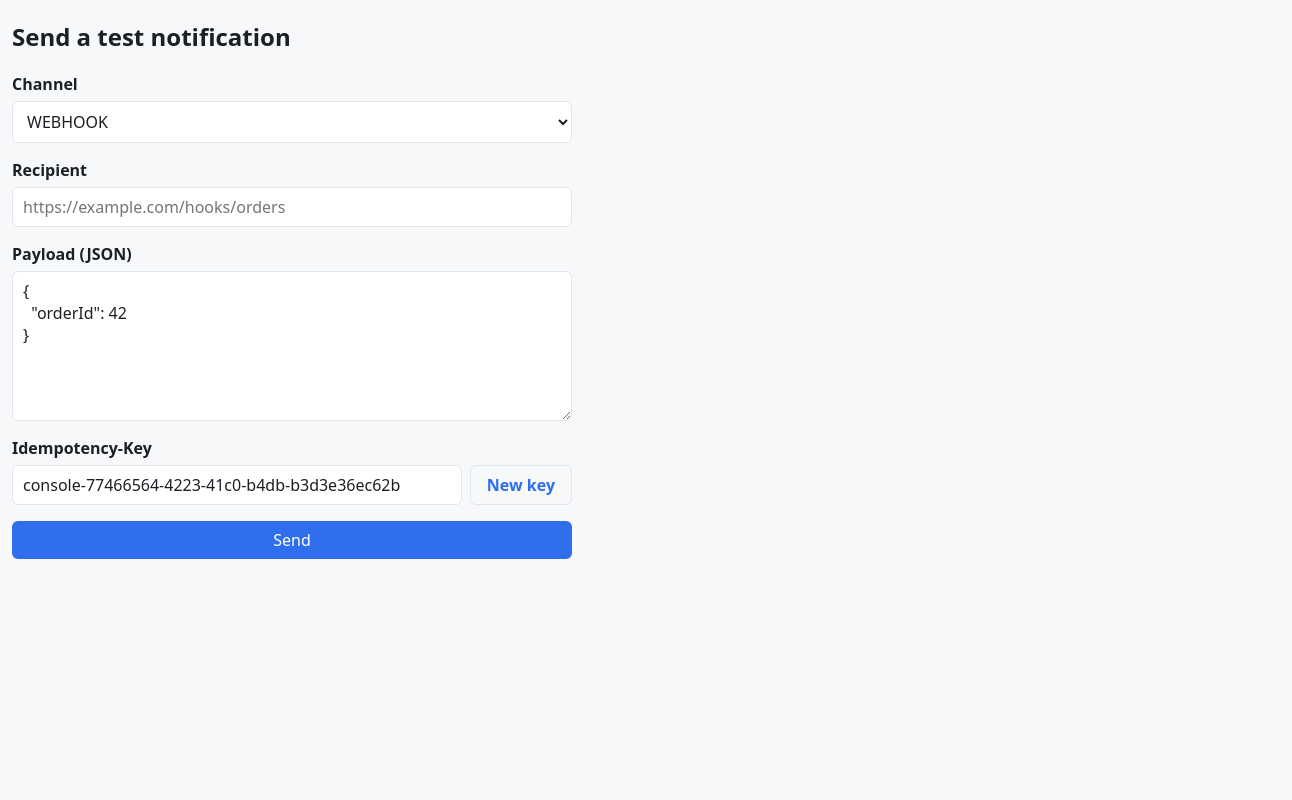
SendNotificationPage › shows the replay message when the same key is sent twice
This screenshot has width=1292, height=800.
Type "https://example.com/hooks" into the field labelled "Recipient" at coordinates (292, 207), box [12,187,572,227]
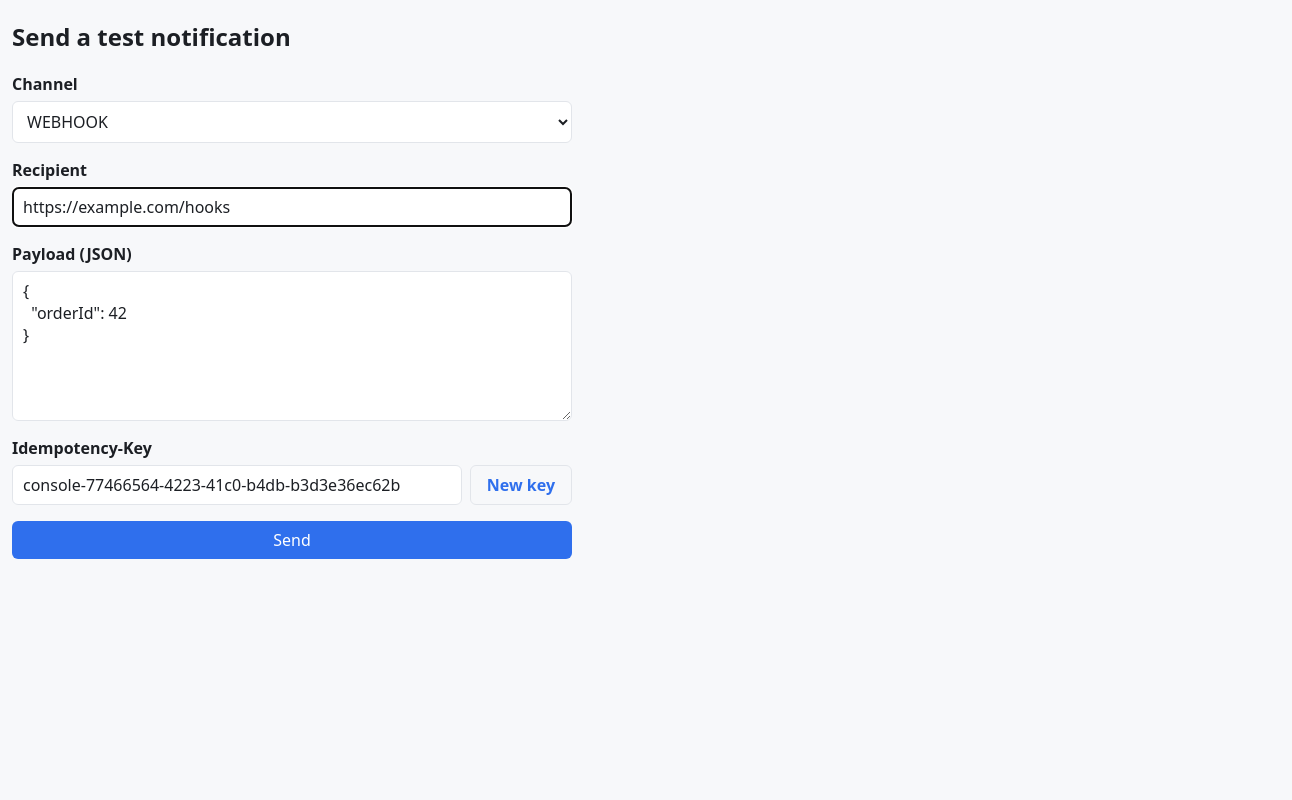
Click the button "Send" at coordinates (292, 540), box [12,521,572,559]
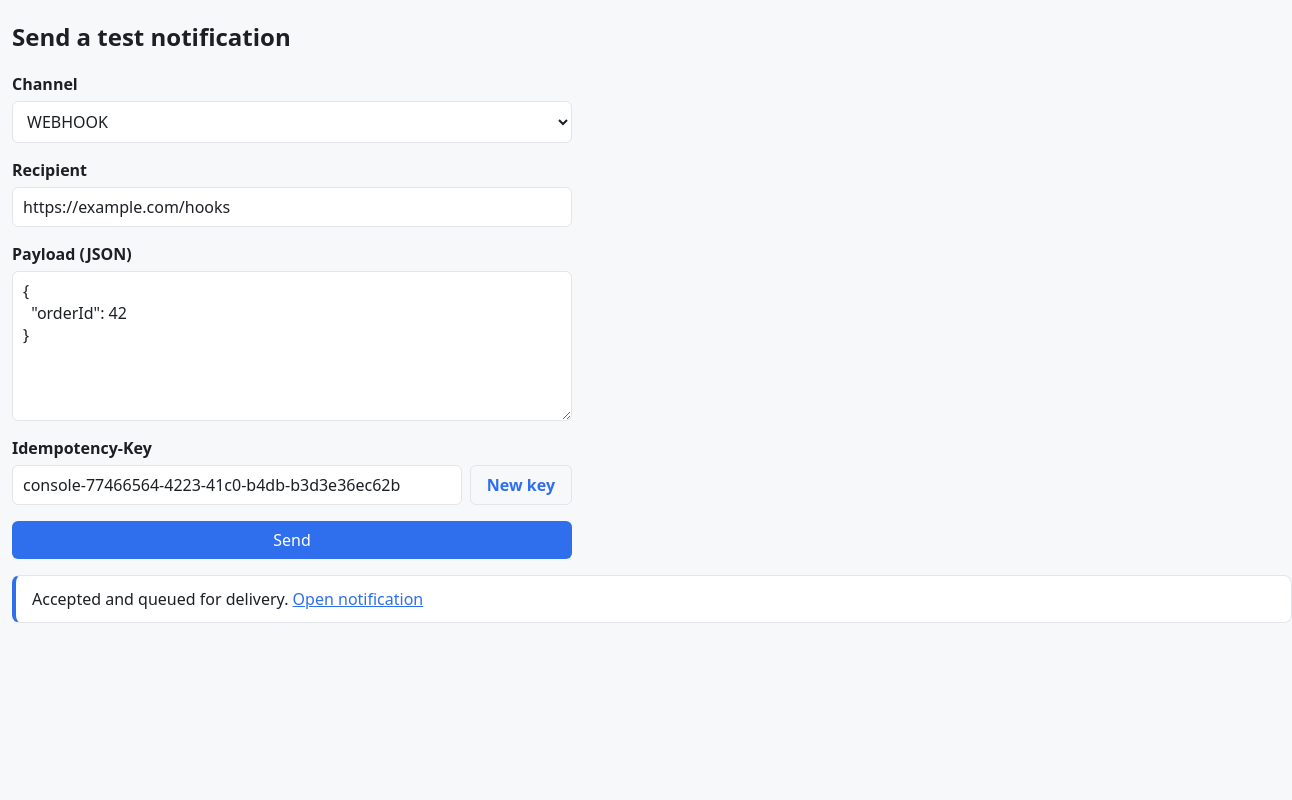
Result: the message "Accepted and queued for delivery. Open notification" is shown at [12,575,1291,623]
Click the button "Send" at coordinates (292, 540), box [12,521,572,559]
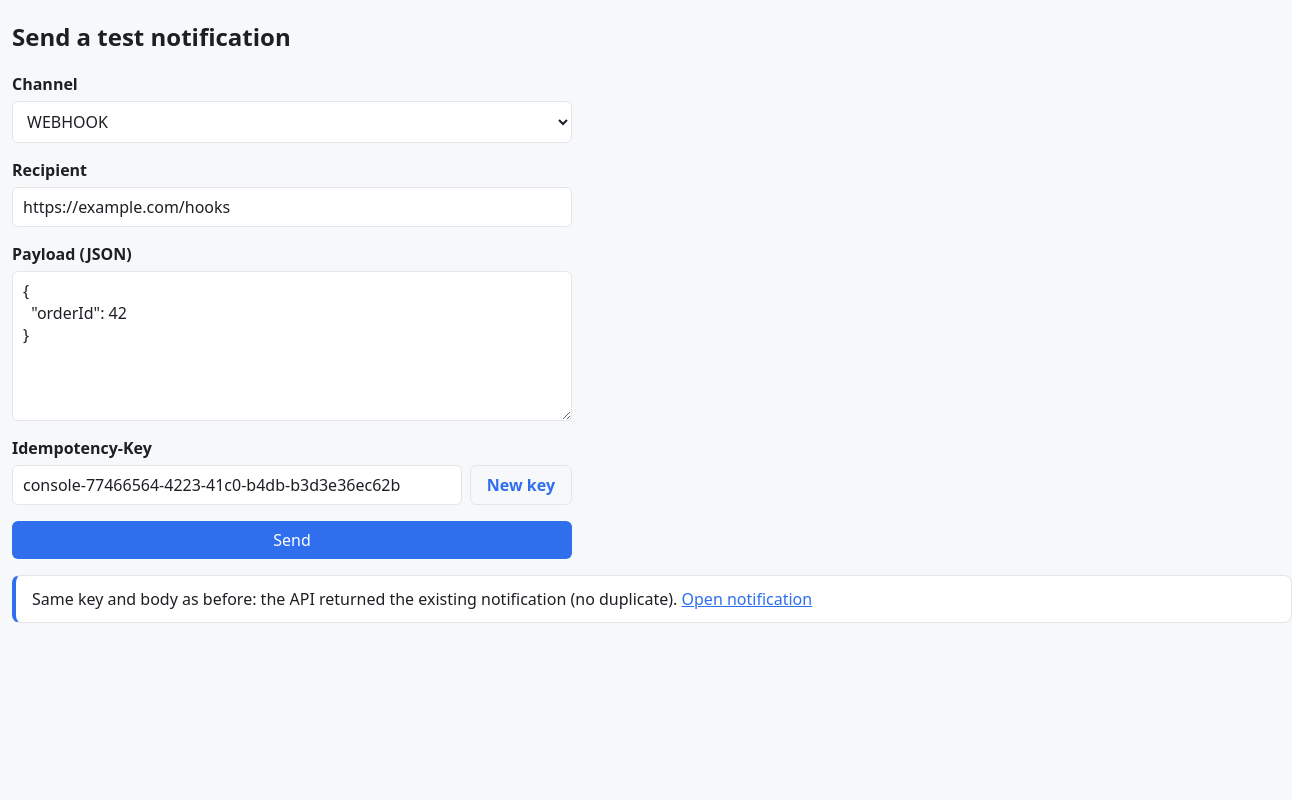
Result: the text "no duplicate" is shown at [32,588,677,610]
